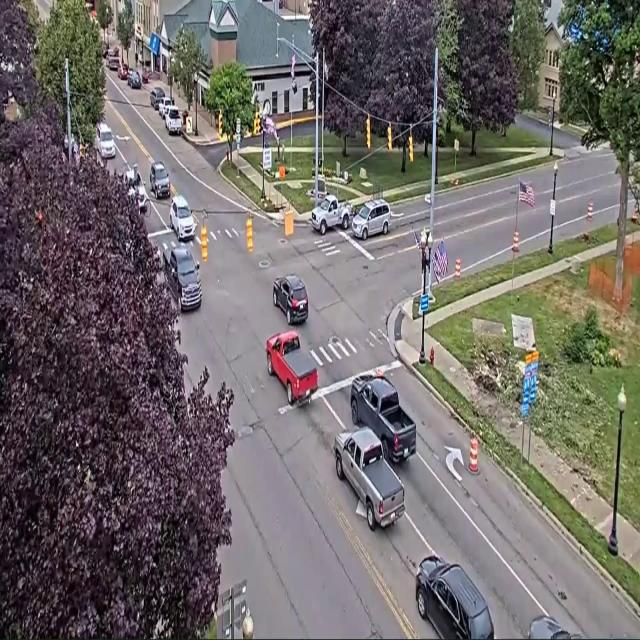car: (416, 555, 494, 639), (163, 247, 201, 311), (273, 275, 308, 325), (352, 200, 390, 240), (527, 616, 581, 639), (170, 195, 195, 240), (125, 165, 147, 211), (95, 122, 115, 159), (150, 162, 170, 198), (165, 106, 181, 135), (158, 96, 173, 119), (150, 88, 164, 110), (107, 54, 121, 71), (127, 71, 141, 88), (118, 63, 128, 79), (141, 69, 149, 84), (102, 42, 109, 58)
traffic signal: (246, 213, 253, 252), (200, 224, 207, 262), (254, 112, 261, 135), (366, 116, 370, 149), (388, 123, 392, 151), (409, 134, 413, 162), (218, 111, 222, 137)
truck: (334, 428, 404, 530), (350, 373, 415, 462), (266, 331, 318, 405), (311, 194, 352, 235)
